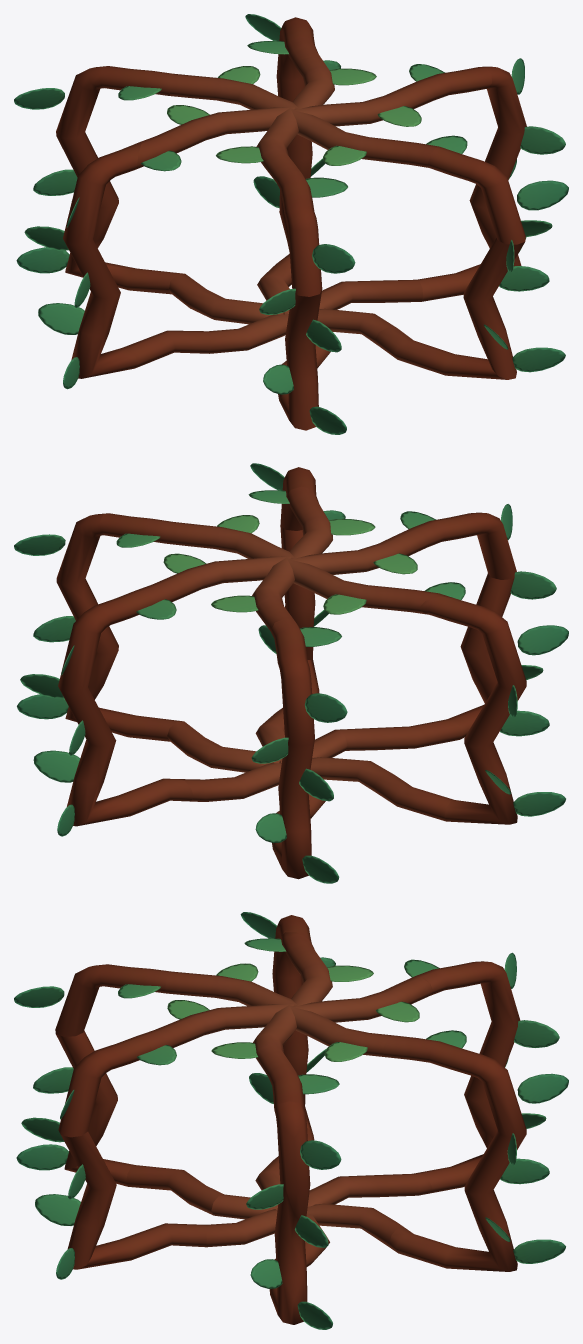
The model's file is vines broken new 5.fbx.
3 renders of one model, top to bottom at view 1: azimuth 30°, elevation 25°; view 2: azimuth 150°, elevation 25°; view 3: azimuth 270°, elevation 25°, orthographic.
Parts seen in each view (by area): view 1: Circle.215, Circle.213, Circle.191, Circle.226, Circle.218, Circle.237, Circle.225, Circle.224, Circle.216, Circle.231, Circle.232, Circle.227 (+9 smaller); view 2: Circle.216, Circle.215, Circle.213, Circle.218, Circle.224, Circle.231, Circle.237, Circle.191, Circle.232, Circle.236, Circle.219, Circle.227 (+9 smaller); view 3: Circle.216, Circle.218, Circle.213, Circle.226, Circle.237, Circle.224, Circle.225, Circle.191, Circle.215, Circle.227, Circle.231, Circle.230 (+9 smaller).
Boxes of the visible parts, <box> form: Circle.215: <box>24,140,143,389</box>; Circle.213: <box>14,66,173,293</box>; Circle.191: <box>259,288,346,434</box>; Circle.226: <box>463,238,565,379</box>; Circle.218: <box>469,58,565,266</box>; Circle.237: <box>276,170,355,296</box>; Circle.225: <box>426,135,568,244</box>; Circle.224: <box>293,64,491,126</box>; Circle.216: <box>245,14,340,258</box>; Circle.231: <box>137,105,295,171</box>; Circle.232: <box>123,312,288,368</box>; Circle.227: <box>290,108,438,167</box>; Circle.216: <box>20,576,193,836</box>; Circle.215: <box>419,596,568,824</box>; Circle.213: <box>251,619,347,883</box>; Circle.218: <box>14,513,118,721</box>; Circle.224: <box>100,513,294,558</box>; Circle.231: <box>286,558,465,614</box>; Circle.237: <box>400,504,516,579</box>; Circle.191: <box>460,571,556,703</box>; Circle.232: <box>310,757,454,821</box>; Circle.236: <box>289,528,429,574</box>; Circle.219: <box>163,553,291,597</box>; Circle.227: <box>286,486,375,559</box>; Circle.216: <box>383,1030,568,1271</box>; Circle.218: <box>246,1101,341,1329</box>; Circle.213: <box>404,952,559,1193</box>; Circle.226: <box>21,1117,116,1279</box>; Circle.237: <box>14,964,171,1036</box>; Circle.224: <box>211,1004,339,1108</box>; Circle.225: <box>58,1036,176,1137</box>; Circle.191: <box>16,1030,117,1170</box>; Circle.215: <box>240,912,335,1135</box>; Circle.227: <box>137,1000,294,1050</box>; Circle.231: <box>244,932,373,1006</box>; Circle.230: <box>293,977,432,1022</box>.
Size of the model in its own units: 31 by 12.9 by 29.53.
